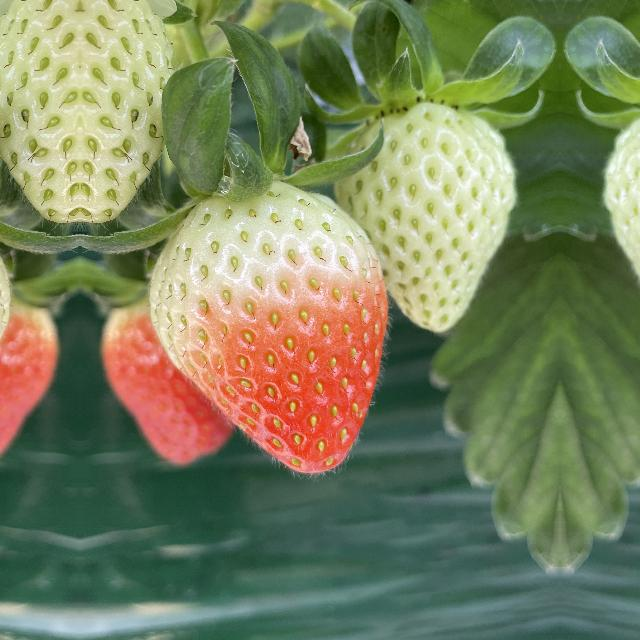Health_25: (332, 98, 524, 326), (83, 0, 167, 230), (0, 0, 77, 230), (596, 98, 640, 326)
Health_75: (148, 175, 392, 480)
